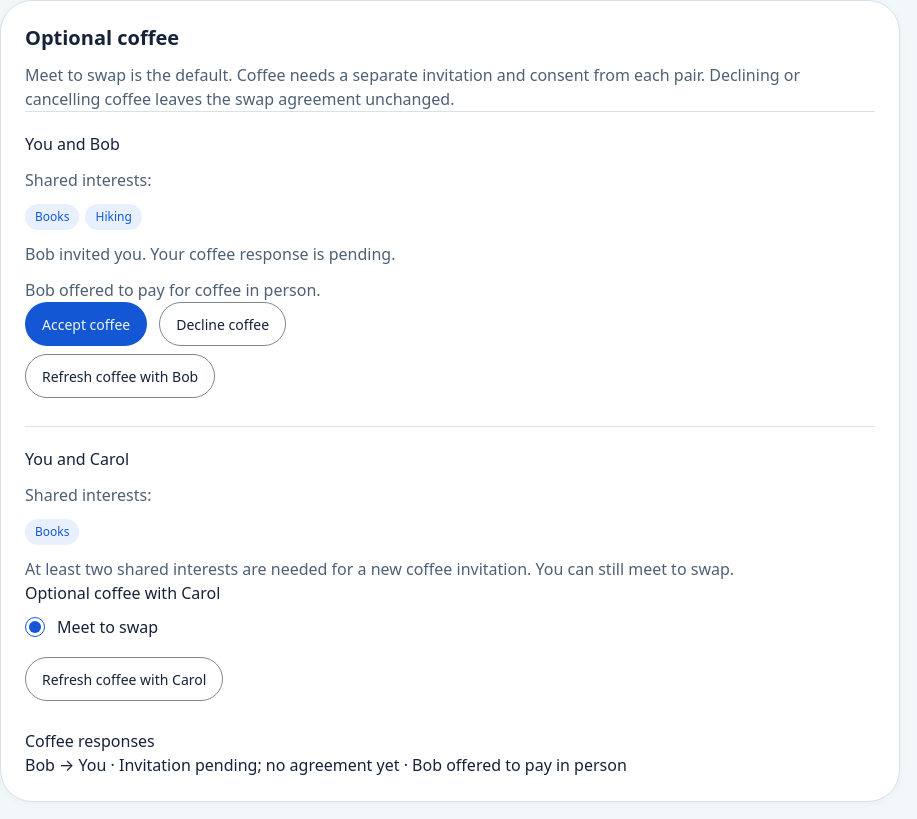
Test: eligibility read denial does not prevent declining a current invitation
The width and height of the screenshot is (917, 819).
expect the button "Decline coffee" is shown: met, box [159, 302, 286, 346]
Click the button "Refresh coffee with Bob". click: (120, 376)
box: [25, 354, 215, 398]
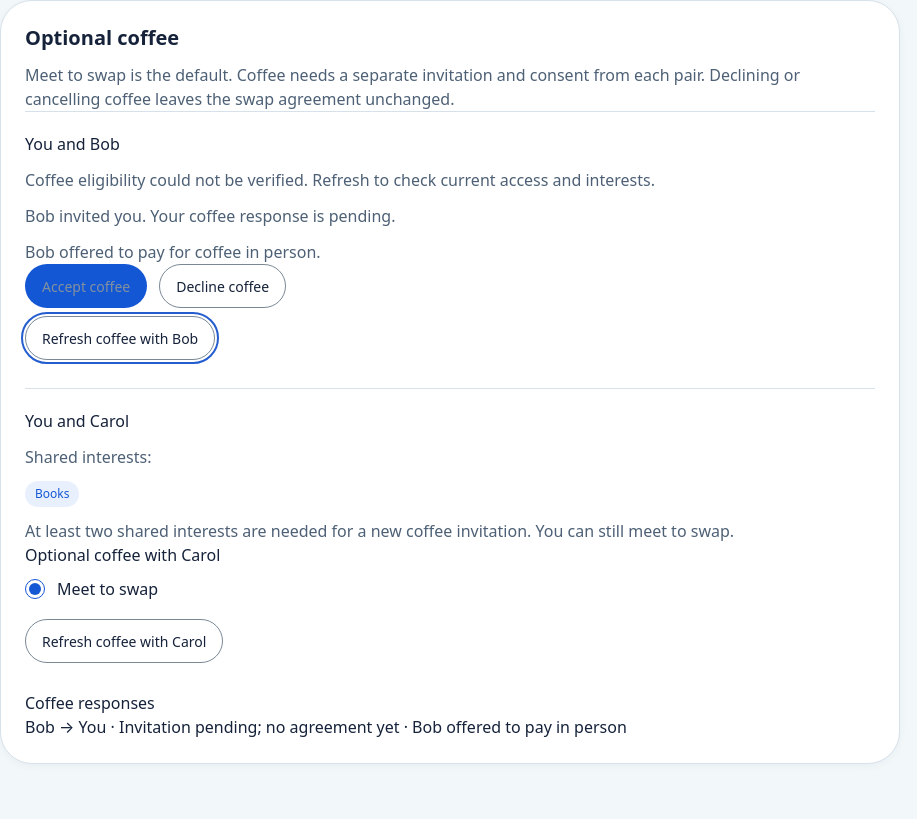
expect the text "Coffee eligibility could not be verified" is shown: met, box [25, 169, 655, 191]
expect the button "Accept coffee" is disabled: met, box [25, 264, 147, 308]
Click the button "Decline coffee". click: (223, 286)
box: [159, 264, 286, 308]
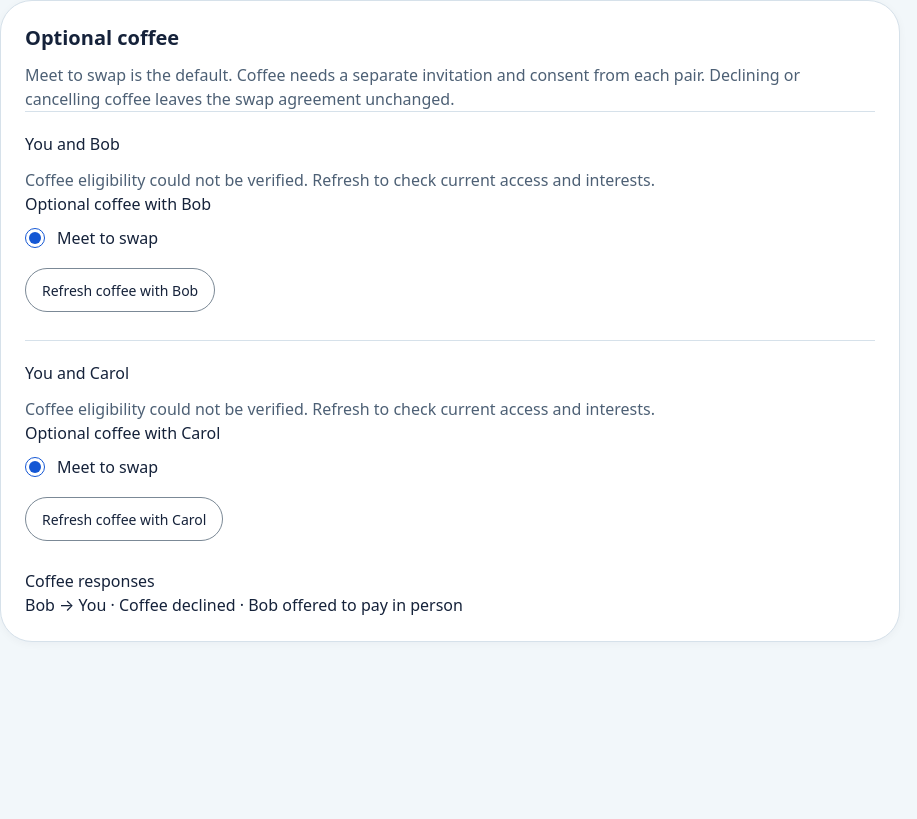
expect the list item "Bob → You · Coffee declined · Bob offered to pay in person" is shown: met, box [25, 594, 463, 616]
